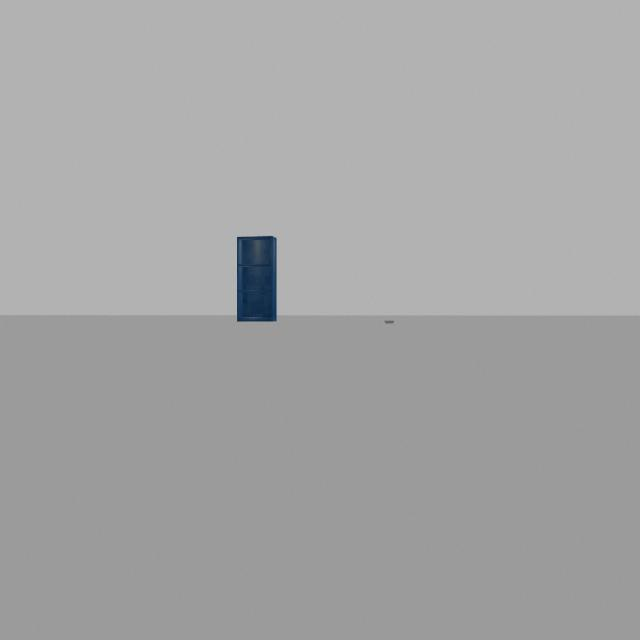bowl: (379, 314, 397, 329)
shelf: (224, 221, 282, 334)
